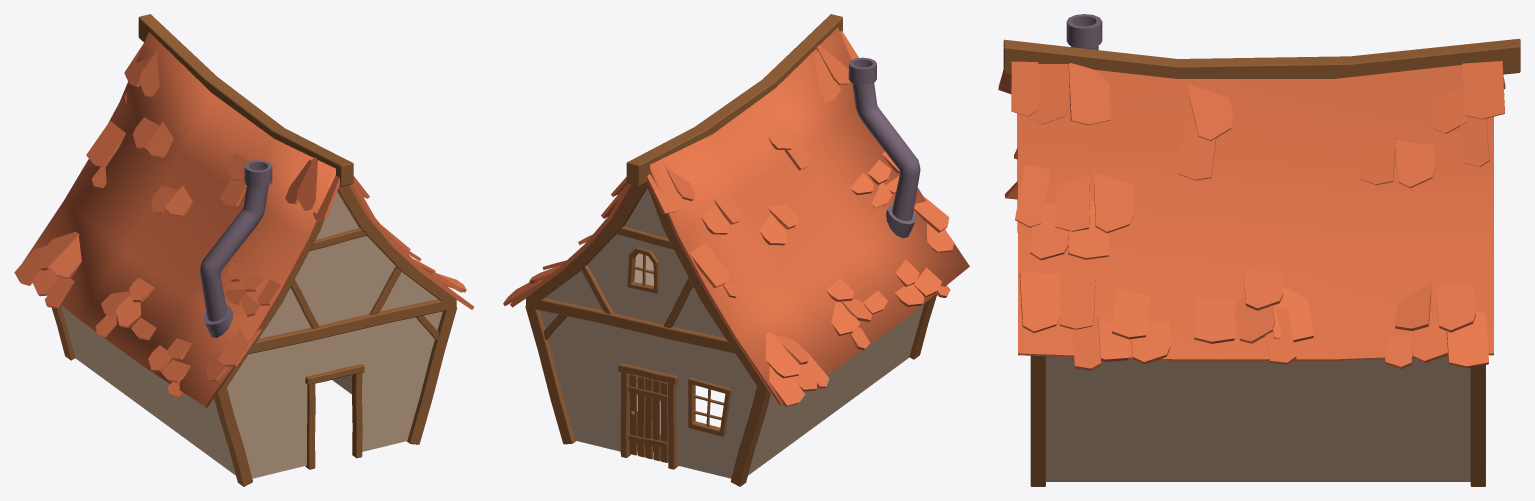
The model's file is Stylized house 1.fbx.
3 renders of one model, left to right at view 1: azimuth 30°, elevation 25°; view 2: azimuth 150°, elevation 25°; view 3: azimuth 270°, elevation 25°, orthographic. The views are drawn at different scales.
Parts seen in each view (by area): view 1: Plane.001, Plane.002, Cube.071, Cube.030, Cube.001, Cylinder, Plane.006; view 2: Plane.001, Plane, Cube.071, Cube.030, Cube.001, Cylinder, Plane.006; view 3: Plane.006, Plane.007, Cube.030, Cube.071, Cylinder.
Part boxes in pixels (<box>): Plane.001: <box>22,32,335,407</box>; Plane.002: <box>227,192,442,478</box>; Cube.071: <box>52,14,456,486</box>; Cube.030: <box>14,41,466,397</box>; Cube.001: <box>61,305,235,475</box>; Cylinder: <box>200,160,272,337</box>; Plane.006: <box>349,183,473,309</box>; Plane.001: <box>650,27,969,405</box>; Plane: <box>540,188,756,478</box>; Cube.071: <box>525,14,936,486</box>; Cube.030: <box>503,30,954,406</box>; Cube.001: <box>748,304,923,475</box>; Cylinder: <box>848,57,920,238</box>; Plane.006: <box>510,183,632,307</box>; Plane.006: <box>1018,63,1493,360</box>; Plane.007: <box>1046,356,1470,481</box>; Cube.030: <box>998,61,1505,370</box>; Cube.071: <box>1003,38,1520,486</box>; Cylinder: <box>1066,14,1102,49</box>.
Bounding box in the file's own units: 670 × 668 × 804.
